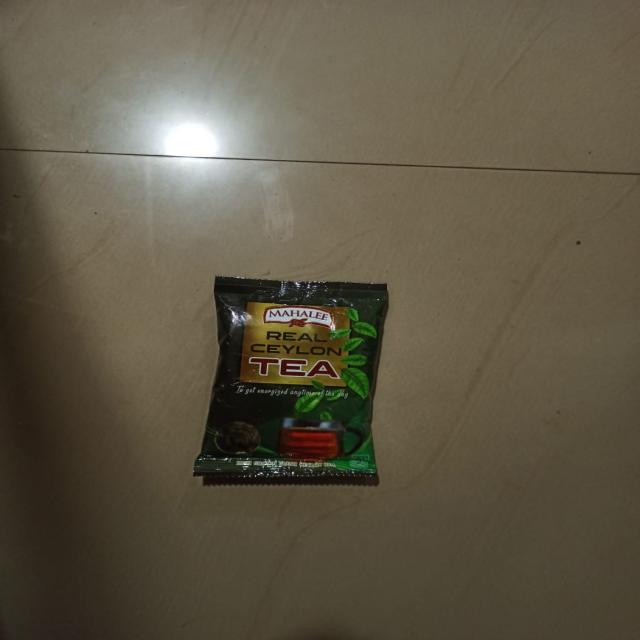Ceryloan TEA: (170, 285, 373, 515)
